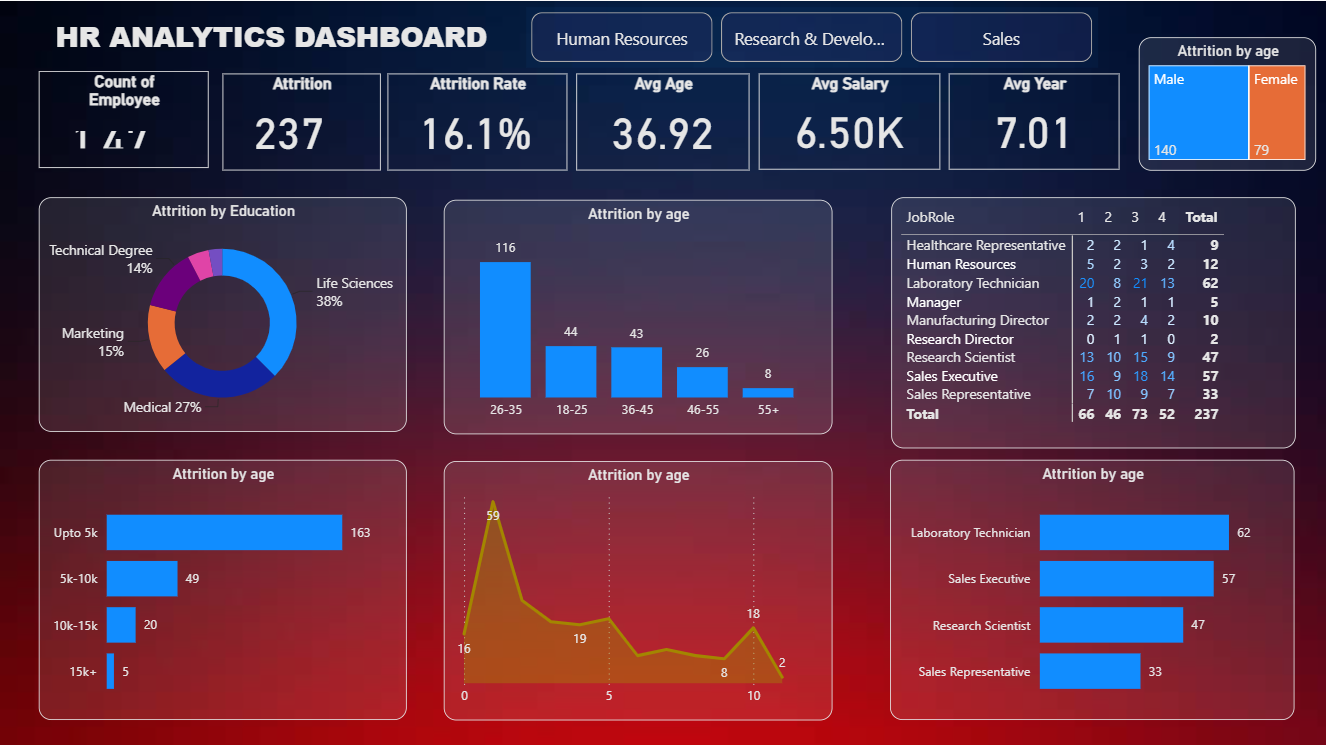

The page's visual inventory and layout, read from the dashboard file:
{"tool":"powerbi","page":{"name":"Page 1","canvas":[1280,720],"ordinal":0},"visuals":[{"type":"cardVisual","title":"Count of Employee","fields":{"Data":["CountNonNull(HR_Analytics.EmpID)"]},"box":[37.5,67.5,163.8,93.8],"z":0},{"type":"cardVisual","title":"Attrition","fields":{"Data":["Sum(HR_Analytics.AttritionCount)"]},"box":[215,70,152.5,93.8],"z":1000},{"type":"cardVisual","title":"Attrition Rate","fields":{"Data":["HR_Analytics.AttritionRate"]},"box":[373.8,70,173.8,93.8],"z":2000},{"type":"cardVisual","title":"Avg Age","fields":{"Data":["Avg(HR_Analytics.Age)"]},"box":[556.2,70,167.5,93.8],"z":3000},{"type":"cardVisual","title":"Avg Salary","fields":{"Data":["Avg(HR_Analytics.MonthlyIncome)"]},"box":[732.5,70,175,92.5],"z":4000},{"type":"cardVisual","title":"Avg Year","fields":{"Data":["Avg(HR_Analytics.YearsAtCompany)"]},"box":[916.2,70,165,92.5],"z":5000},{"type":"donutChart","title":"Attrition by Education","fields":{"Category":["HR_Analytics.EducationField"],"Y":["Sum(HR_Analytics.AttritionCount)"]},"box":[37.5,190,355,226.2],"z":6000},{"type":"columnChart","title":"Attrition by age","fields":{"Category":["HR_Analytics.AgeGroup"],"Y":["Sum(HR_Analytics.AttritionCount)"]},"box":[428.8,191.2,375,226.2],"z":7000},{"type":"pivotTable","fields":{"Rows":["HR_Analytics.JobRole"],"Columns":["HR_Analytics.JobSatisfaction"],"Values":["Sum(HR_Analytics.AttritionCount)"]},"box":[860,190,390,242.5],"z":8000},{"type":"barChart","title":"Attrition by age","fields":{"Category":["HR_Analytics.SalarySlab"],"Y":["Sum(HR_Analytics.AttritionCount)"]},"box":[37.1,443.3,354.9,250.9],"z":9000},{"type":"barChart","title":"Attrition by age","fields":{"Y":["Sum(HR_Analytics.AttritionCount)"],"Category":["HR_Analytics.JobRole"]},"box":[859.5,443.3,390.6,250.9],"z":10000},{"type":"areaChart","title":"Attrition by age","fields":{"Category":["HR_Analytics.YearsAtCompany"],"Y":["Sum(HR_Analytics.AttritionCount)"]},"box":[428.8,443.8,375,250],"z":11000},{"type":"treemap","title":"Attrition by age","fields":{"Group":["HR_Analytics.Gender"],"Values":["Sum(HR_Analytics.AttritionCount)"]},"box":[1098.8,35,171.2,128.8],"z":12000},{"type":"advancedSlicerVisual","fields":{"Values":["HR_Analytics.Department"]},"box":[507.4,5.7,551.6,58.4],"z":13000},{"type":"textbox","box":[37.5,10,448.8,48.8],"z":14000}]}

Visuals, with their boxes in screenshot pixels (x1, y1, x2, y2), scaled from the page's 1280x720 canvas onto the 1326x745 screenshot:
"Count of Employee" cardVisual: 39 70 209 167
"Attrition" cardVisual: 223 72 381 169
"Attrition Rate" cardVisual: 387 72 567 169
"Avg Age" cardVisual: 576 72 750 169
"Avg Salary" cardVisual: 759 72 940 168
"Avg Year" cardVisual: 949 72 1120 168
"Attrition by Education" donutChart: 39 197 407 431
"Attrition by age" columnChart: 444 198 833 432
pivotTable - HR_Analytics.JobRole x HR_Analytics.JobSatisfaction: 891 197 1295 448
"Attrition by age" barChart: 38 459 406 718
"Attrition by age" barChart: 890 459 1295 718
"Attrition by age" areaChart: 444 459 833 718
"Attrition by age" treemap: 1138 36 1316 169
advancedSlicerVisual - HR_Analytics.Department: 526 6 1097 66
textbox: 39 10 504 61
